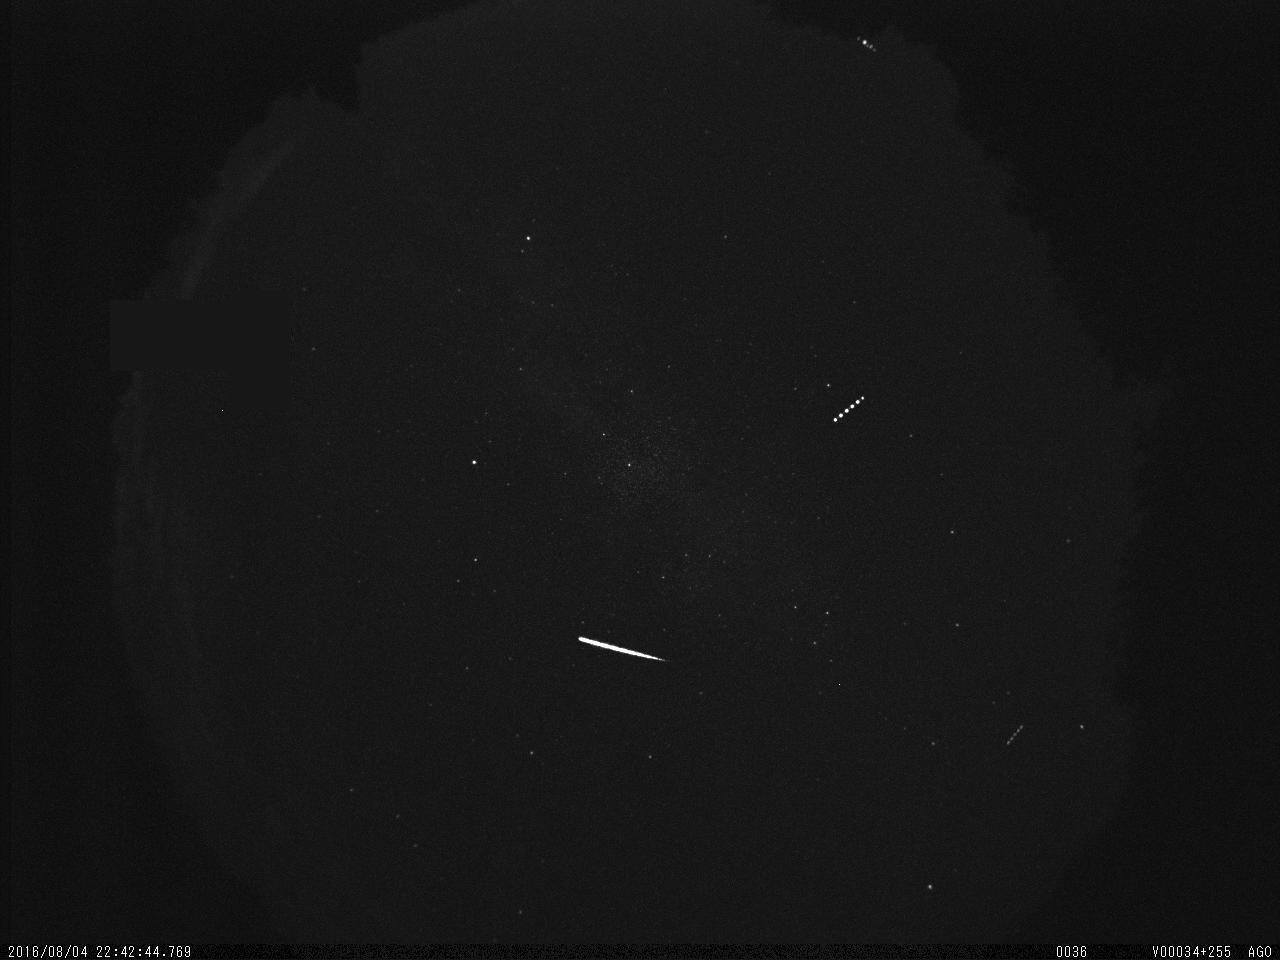meteor: (574, 627, 675, 672)
satelite: (826, 383, 872, 434), (849, 31, 884, 54)
